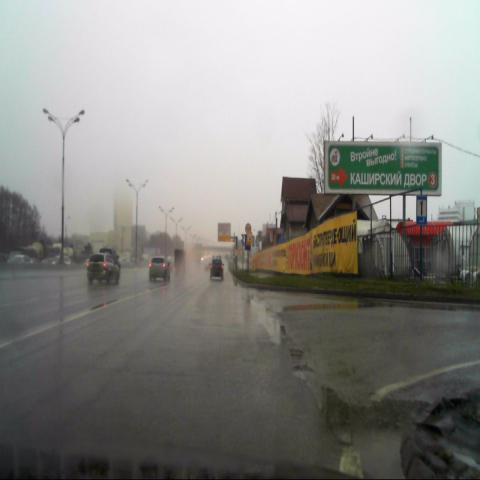7_4: (416, 196, 428, 225)
